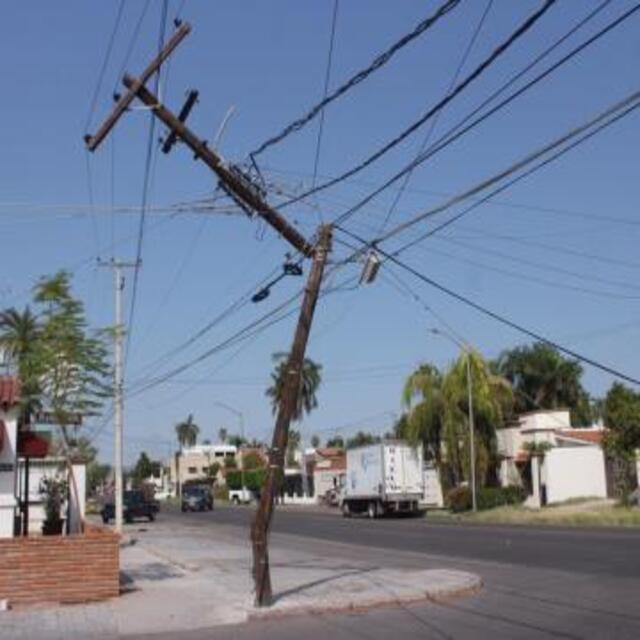Inclined Pole: (75, 10, 339, 604)
